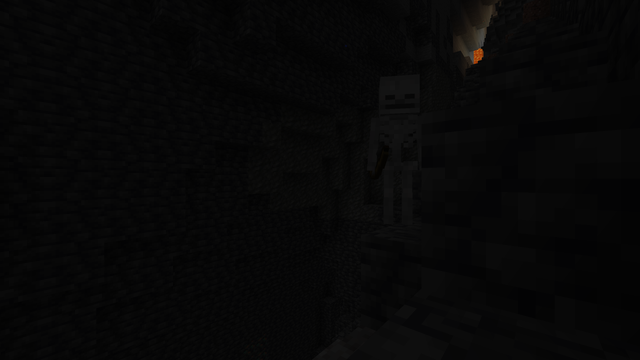squelettes: (368, 70, 426, 228)
